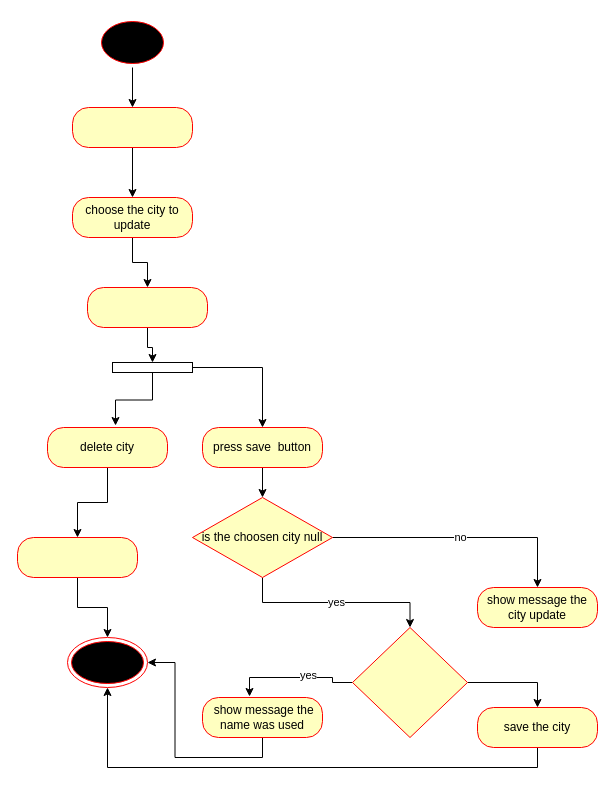
The diagram is 615 pixels wide and 793 high, and some of its shapes have lost their labels. Each missing label, with the centre of its shape:
"choose the gavernorate to update" belongs at (132,127).
"enter the name" belongs at (147,307).
"is the name was used" belongs at (410,682).
"show message the city deleted" belongs at (77,557).
